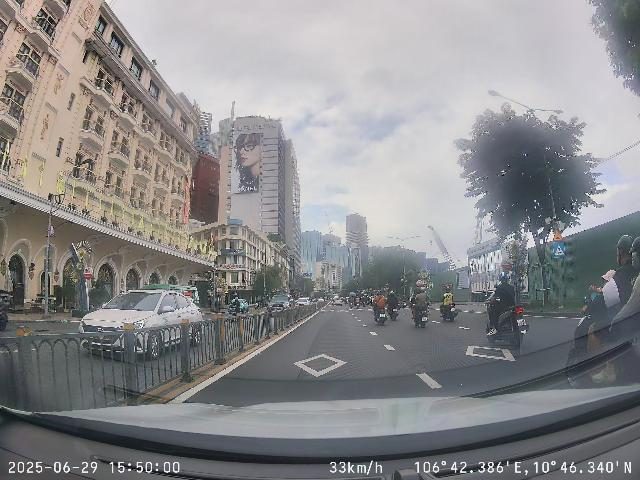221-duong-go-ghe: (553, 230, 563, 241)
423a-duong-nguoi-di-bo-sang-ngang-1: (553, 242, 566, 257)
